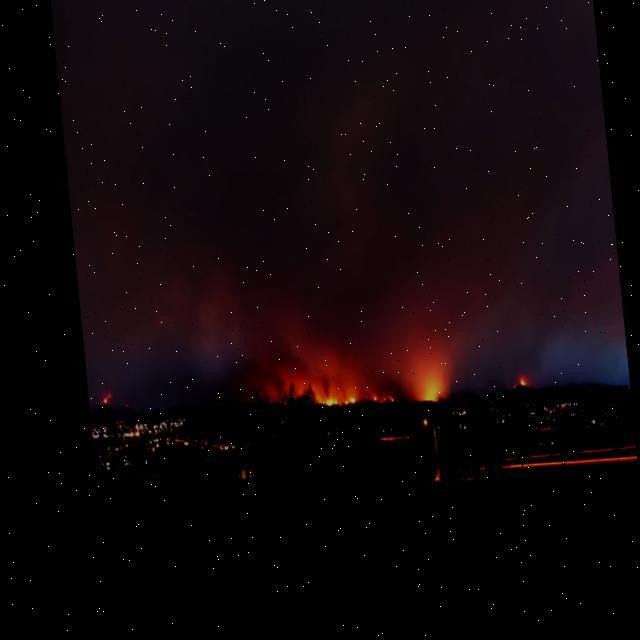Fire: (410, 383, 430, 407), (315, 400, 348, 412), (364, 396, 384, 409), (94, 393, 105, 405), (510, 384, 518, 392)
